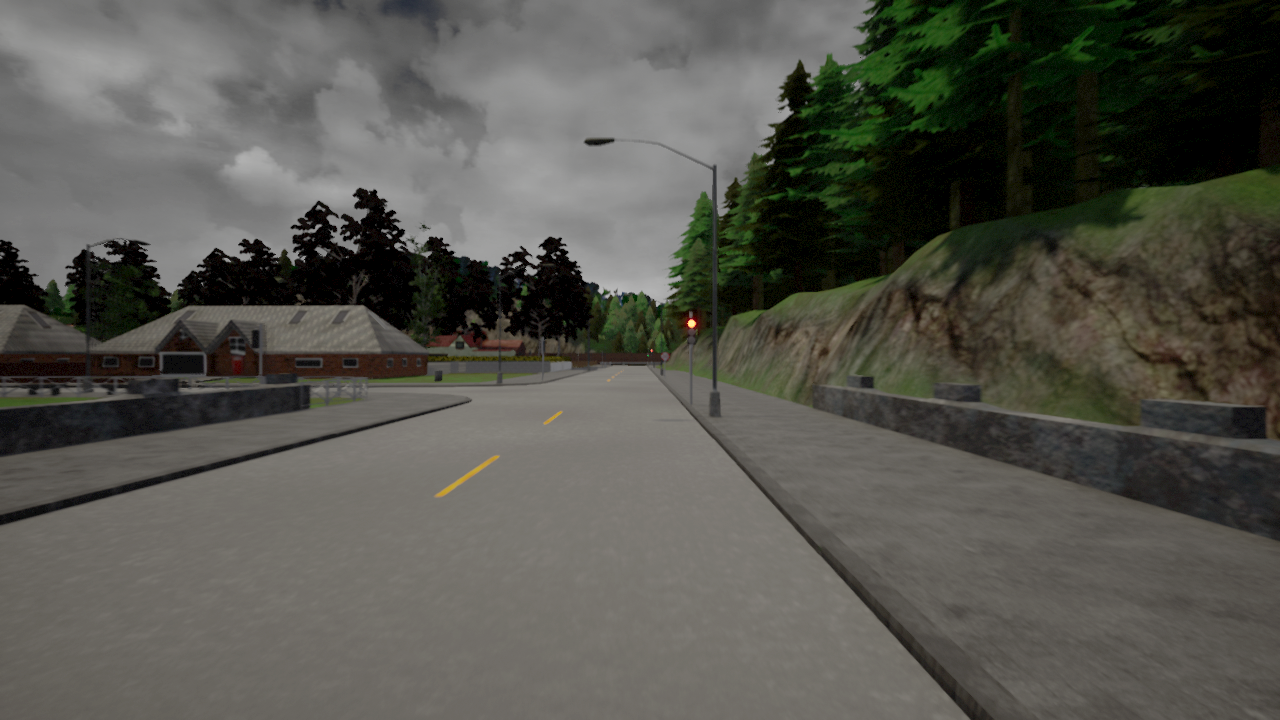red: (685, 318, 697, 343)
